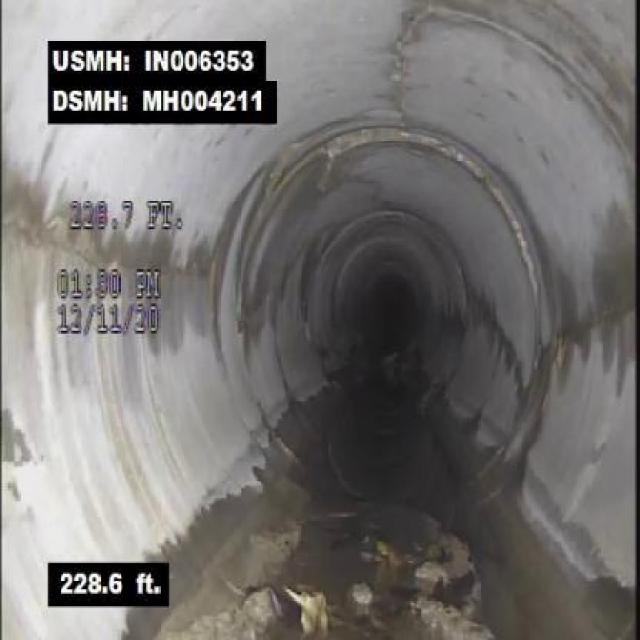Crack: (8, 222, 110, 268), (386, 0, 429, 97), (566, 296, 626, 362)
Joint offset: (324, 120, 502, 158)
